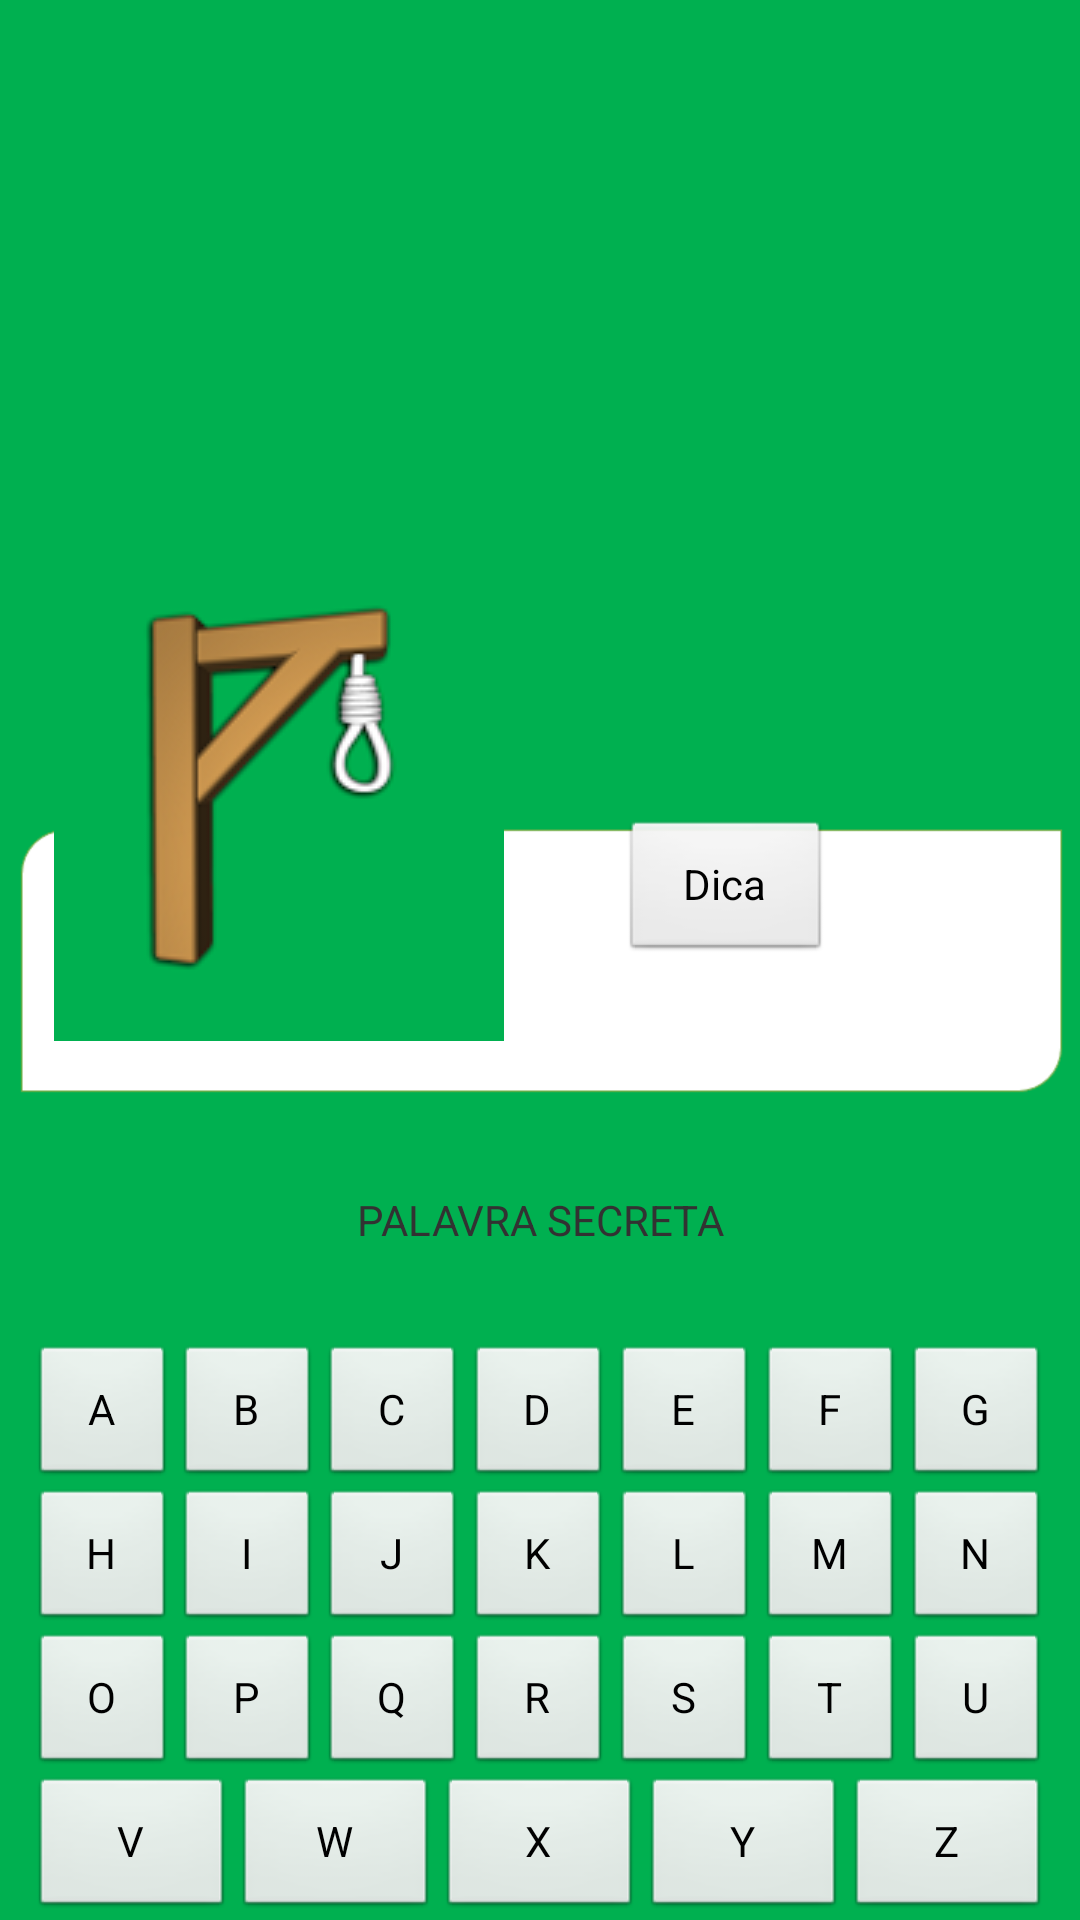

Where icons sit on this 1080px×1920px app screen, as rect(x1, y1, x2, y2):
forca: rect(147, 608, 393, 968)
